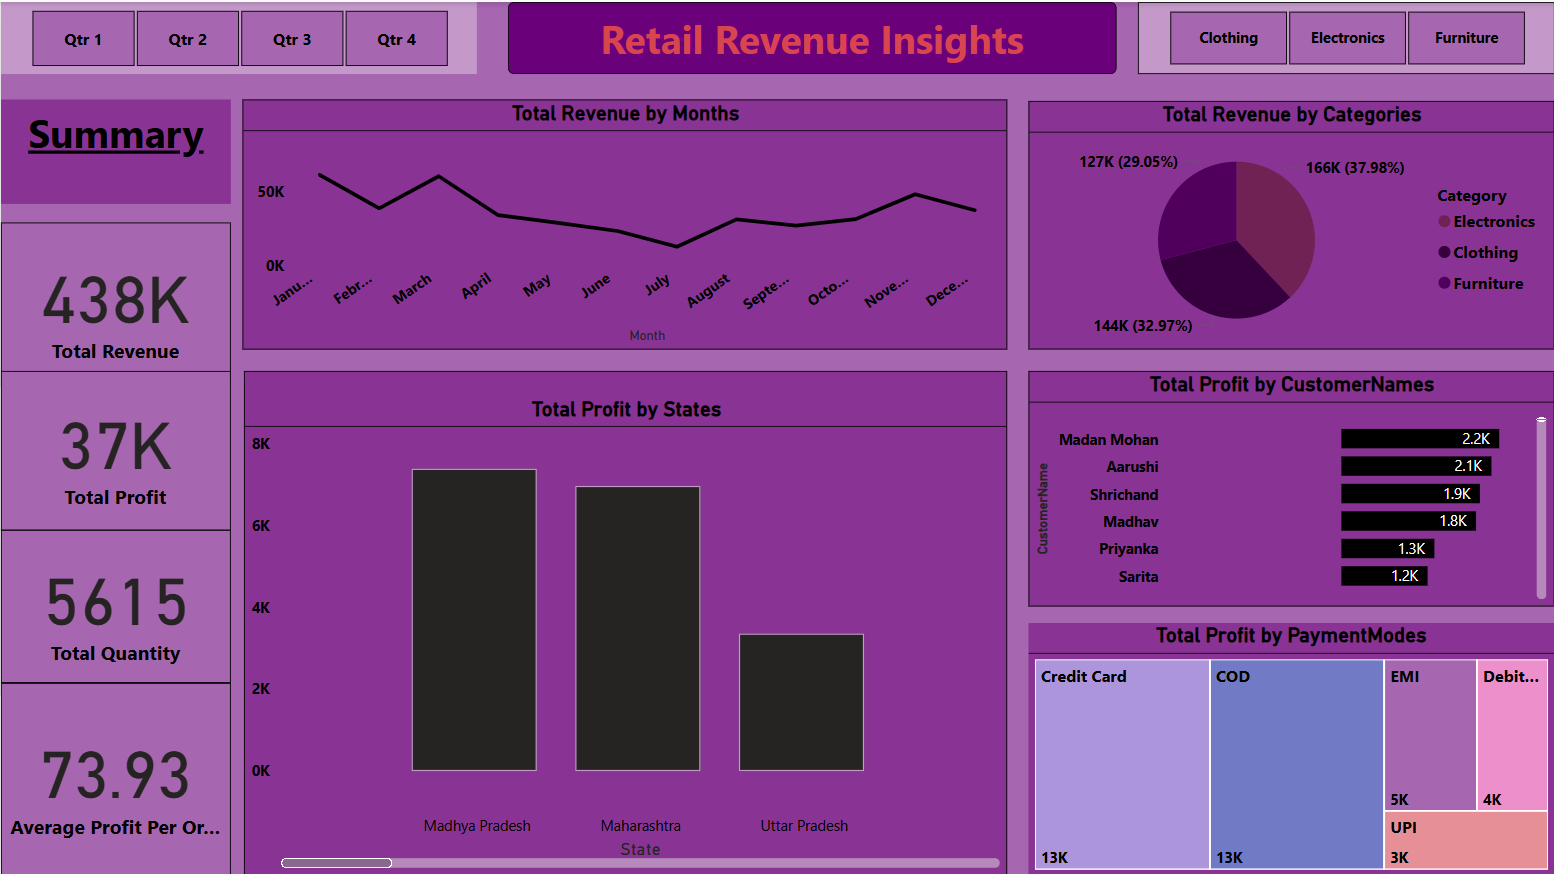

The page's visual inventory and layout, read from the dashboard file:
{"tool":"powerbi","page":{"name":"Page 1","canvas":[1280,720],"ordinal":0},"visuals":[{"type":"card","fields":{"Values":["Details.Total Revenue"]},"box":[0,181.1,189.2,135.2],"z":0},{"type":"card","fields":{"Values":["Details.Total Profit"]},"box":[0,304.1,189.2,131.1],"z":1000},{"type":"card","fields":{"Values":["Details.Total Quantity"]},"box":[0,435.3,189.2,125.7],"z":2000},{"type":"card","fields":{"Values":["Details.Average Profit Per Order"]},"box":[0,561,189.2,159.5],"z":3000},{"type":"textbox","box":[417.7,0,501.5,59.5],"z":4000},{"type":"lineChart","title":"Total Revenue by Months","fields":{"Category":["Orders.Order Date.Variation.Date Hierarchy.Month"],"Y":["Details.Total Revenue"]},"box":[198.4,80.3,629.9,205.9],"z":5000},{"type":"pieChart","title":"Total Revenue by Categories","fields":{"Category":["Details.Category"],"Y":["Details.Total Revenue"]},"box":[846.4,81.8,433.1,204.4],"z":6000},{"type":"slicer","fields":{"Values":["Details.Category"]},"box":[936.7,0,343.3,59.5],"z":7000},{"type":"textbox","box":[0,80.3,189.3,86.3],"z":8000},{"type":"clusteredColumnChart","title":"Total Profit by States","fields":{"Category":["Orders.State"],"Y":["Details.Total Profit"]},"box":[200.2,304,629,415.2],"z":9000},{"type":"slicer","fields":{"Values":["Orders.Order Date.Variation.Date Hierarchy.Quarter"]},"box":[0,0,392,59.5],"z":10000},{"type":"treemap","title":"Total Profit by PaymentModes","fields":{"Group":["Details.PaymentMode"],"Values":["Details.Total Profit"]},"box":[846.4,511.8,433.1,207.4],"z":12000},{"type":"barChart","title":"Total Profit by CustomerNames","fields":{"Category":["Orders.CustomerName"],"Y":["Details.Total Profit"]},"box":[846.4,304.4,433.1,193.8],"z":12001}]}

Visuals, with their boxes in screenshot pixels (x1, y1, x2, y2), scaled from the page's 1280x720 canvas onto the 1554x874 screenshot:
card - Details.Total Revenue: <bbox>0, 220, 230, 384</bbox>
card - Details.Total Profit: <bbox>0, 369, 230, 528</bbox>
card - Details.Total Quantity: <bbox>0, 528, 230, 681</bbox>
card - Details.Average Profit Per Order: <bbox>0, 681, 230, 873</bbox>
textbox: <bbox>507, 0, 1116, 72</bbox>
"Total Revenue by Months" lineChart: <bbox>241, 97, 1006, 347</bbox>
"Total Revenue by Categories" pieChart: <bbox>1028, 99, 1553, 347</bbox>
slicer - Details.Category: <bbox>1137, 0, 1553, 72</bbox>
textbox: <bbox>0, 97, 230, 202</bbox>
"Total Profit by States" clusteredColumnChart: <bbox>243, 369, 1007, 873</bbox>
slicer - Orders.Order Date.Variation.Date Hierarchy.Quarter: <bbox>0, 0, 476, 72</bbox>
"Total Profit by PaymentModes" treemap: <bbox>1028, 621, 1553, 873</bbox>
"Total Profit by CustomerNames" barChart: <bbox>1028, 370, 1553, 605</bbox>
